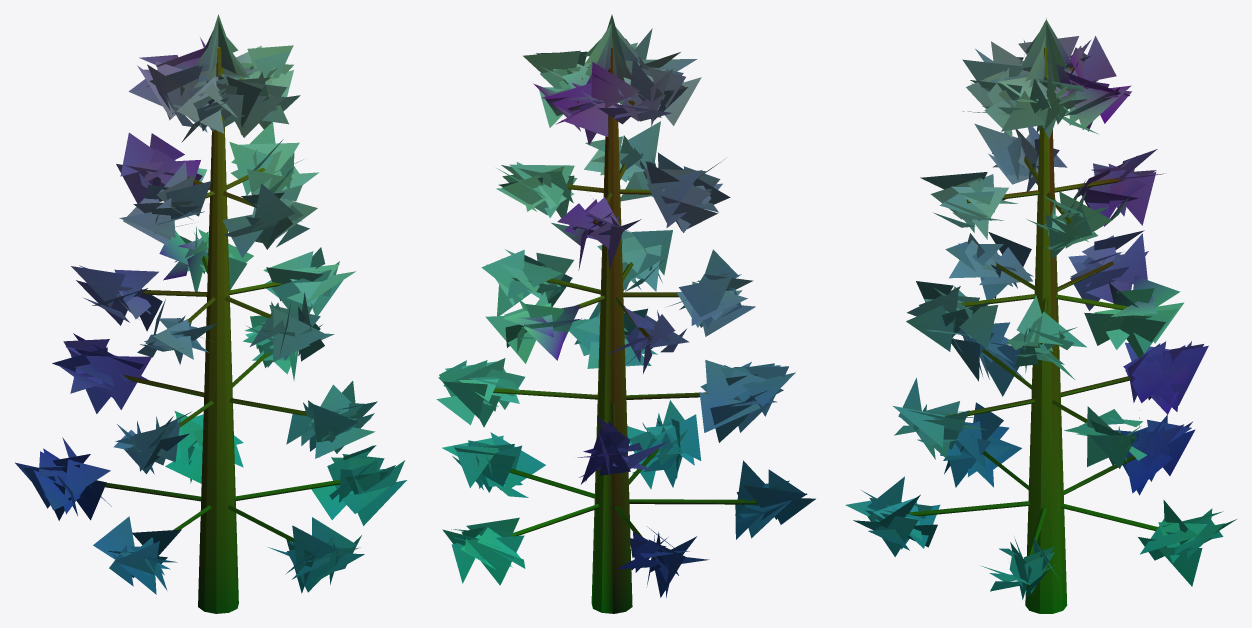
File: ecological_conifer_young_01.glb
The picture shows the model from 3 angles, left to right: view 1: azimuth 30°, elevation 25°; view 2: azimuth 150°, elevation 25°; view 3: azimuth 270°, elevation 25°; orthographic projection.
Visible parts, largest first — view 1: ecological_conifer_young_01; view 2: ecological_conifer_young_01; view 3: ecological_conifer_young_01.
Part boxes in pixels (x1,y1,x2,y2): ecological_conifer_young_01: [15, 14, 406, 613]; ecological_conifer_young_01: [436, 14, 815, 613]; ecological_conifer_young_01: [845, 18, 1236, 613].
Size of the model in its own units: 6.65 by 11.07 by 6.67.
